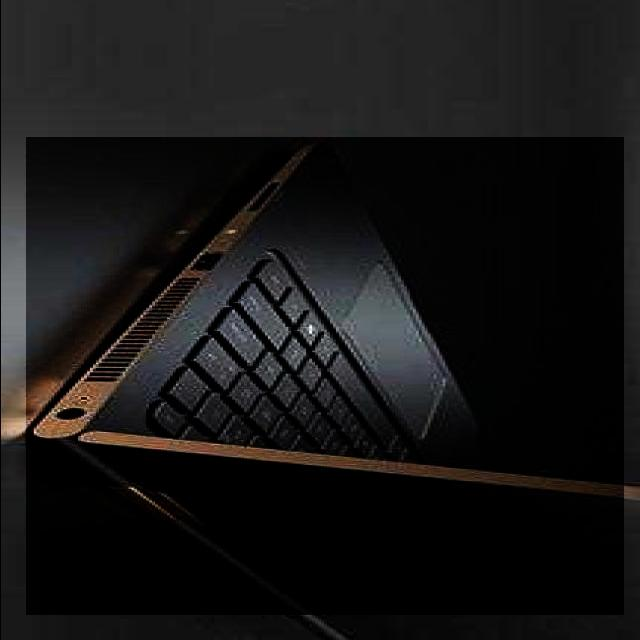-keyboard-: (26, 138, 624, 616)
